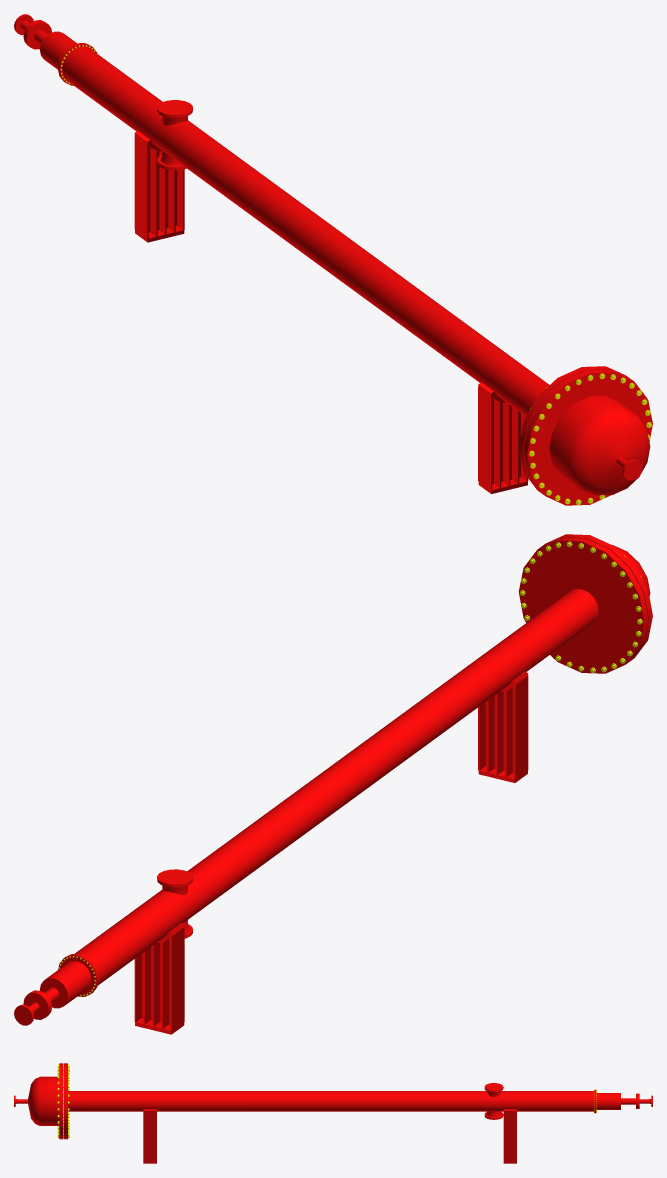
File: E_222_Cooler.FBX
The picture shows the model from 3 angles, top to bottom: view 1: azimuth 30°, elevation 25°; view 2: azimuth 150°, elevation 25°; view 3: azimuth 270°, elevation 25°; orthographic projection. The views are drawn at different scales.
Parts seen in each view (by area): view 1: E_222_Cooler; view 2: E_222_Cooler; view 3: E_222_Cooler.
Part boxes in pixels (bbox=[...]): E_222_Cooler: bbox=[14, 14, 652, 505]; E_222_Cooler: bbox=[14, 534, 652, 1034]; E_222_Cooler: bbox=[14, 1063, 652, 1163].
Size of the model in its own units: 853 by 1136 by 7161.
